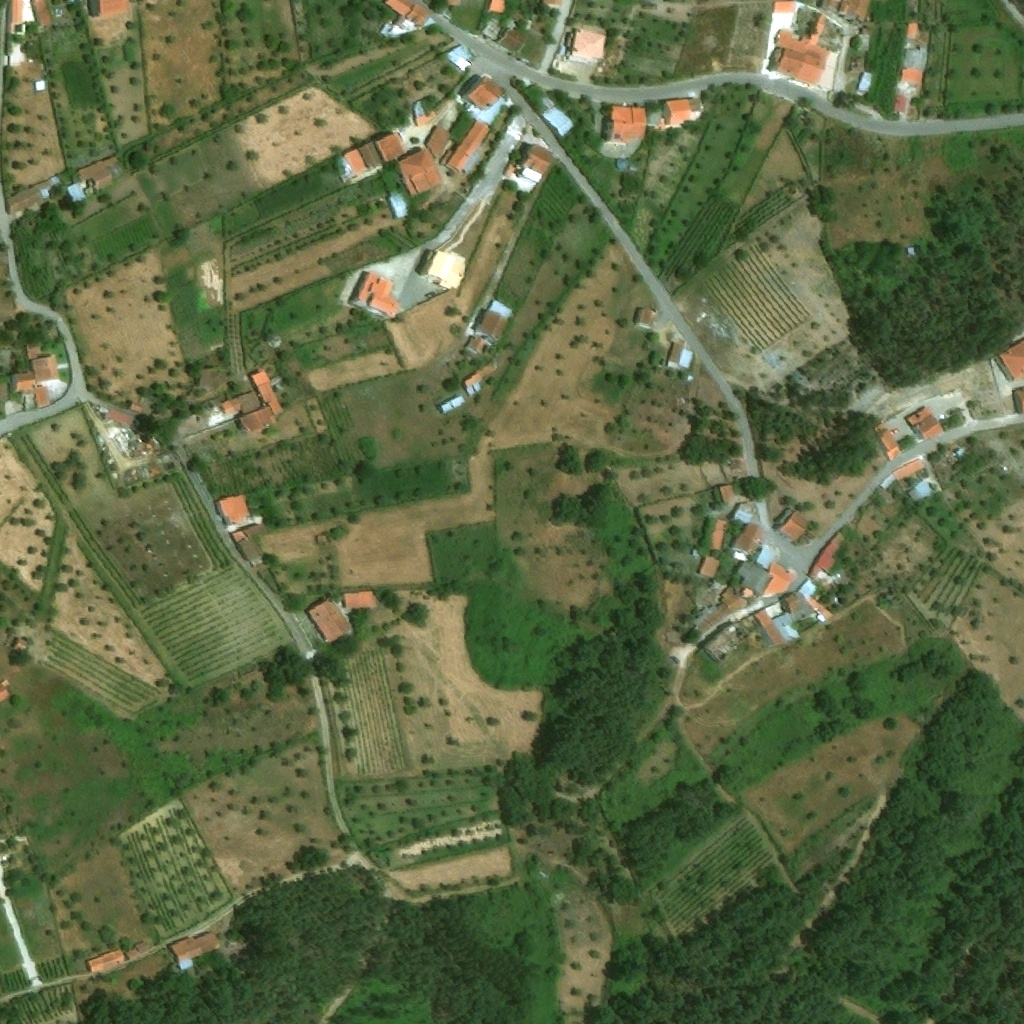0 no-damage: (752, 577, 826, 647), (764, 13, 831, 85), (689, 584, 748, 634), (348, 270, 403, 322), (443, 121, 491, 175), (395, 147, 443, 197), (736, 558, 795, 597), (306, 596, 353, 643), (167, 931, 219, 971), (702, 619, 749, 663), (600, 104, 646, 146), (805, 530, 845, 578), (421, 249, 465, 290), (903, 404, 945, 446), (230, 520, 269, 565), (538, 94, 575, 139), (463, 78, 505, 115), (879, 456, 925, 489), (477, 300, 513, 341), (520, 142, 554, 185), (77, 155, 118, 190), (992, 338, 1023, 384), (774, 507, 814, 542), (871, 421, 903, 462), (733, 521, 770, 556), (3, 183, 43, 214), (214, 493, 251, 526), (85, 949, 126, 978), (444, 40, 478, 72), (238, 406, 276, 434), (820, 0, 870, 21), (220, 390, 260, 416), (664, 96, 702, 123), (255, 381, 284, 416), (383, 0, 413, 30), (906, 478, 935, 508), (475, 97, 506, 125), (426, 125, 451, 159), (376, 132, 405, 161), (497, 25, 527, 53), (666, 342, 694, 371), (31, 354, 58, 381), (36, 173, 64, 198), (708, 519, 728, 553), (342, 148, 367, 175), (66, 179, 92, 204), (903, 44, 927, 71), (344, 590, 376, 610), (105, 407, 135, 428), (358, 141, 382, 167), (413, 100, 436, 127), (387, 192, 409, 219), (197, 367, 225, 388), (331, 157, 354, 182), (481, 17, 504, 40), (733, 501, 756, 524), (7, 0, 23, 33), (898, 67, 923, 88), (13, 371, 36, 393), (699, 555, 721, 578), (634, 305, 655, 329), (440, 394, 465, 414), (464, 371, 483, 397), (855, 70, 874, 96), (408, 3, 430, 25), (34, 0, 52, 26), (465, 335, 487, 356), (755, 545, 776, 565), (890, 96, 908, 118), (647, 109, 665, 130), (855, 28, 871, 51), (250, 369, 270, 386), (719, 484, 736, 502), (36, 386, 50, 407), (13, 637, 30, 654), (905, 23, 918, 44), (479, 362, 496, 378), (946, 447, 965, 461), (439, 147, 454, 164), (0, 678, 11, 701), (26, 342, 40, 360), (848, 56, 863, 71), (9, 52, 25, 66), (502, 163, 516, 178), (134, 940, 150, 953), (33, 78, 47, 91), (128, 401, 143, 413), (732, 550, 747, 561), (617, 159, 628, 169), (317, 533, 326, 543), (885, 592, 894, 601), (98, 406, 108, 414), (629, 165, 639, 171), (692, 550, 700, 556)
4 un-classified: (87, 0, 131, 16), (772, 0, 796, 14), (1011, 387, 1023, 414), (0, 629, 13, 647), (488, 0, 505, 13), (542, 0, 563, 9), (0, 383, 8, 401), (0, 53, 7, 66), (448, 0, 460, 6)
